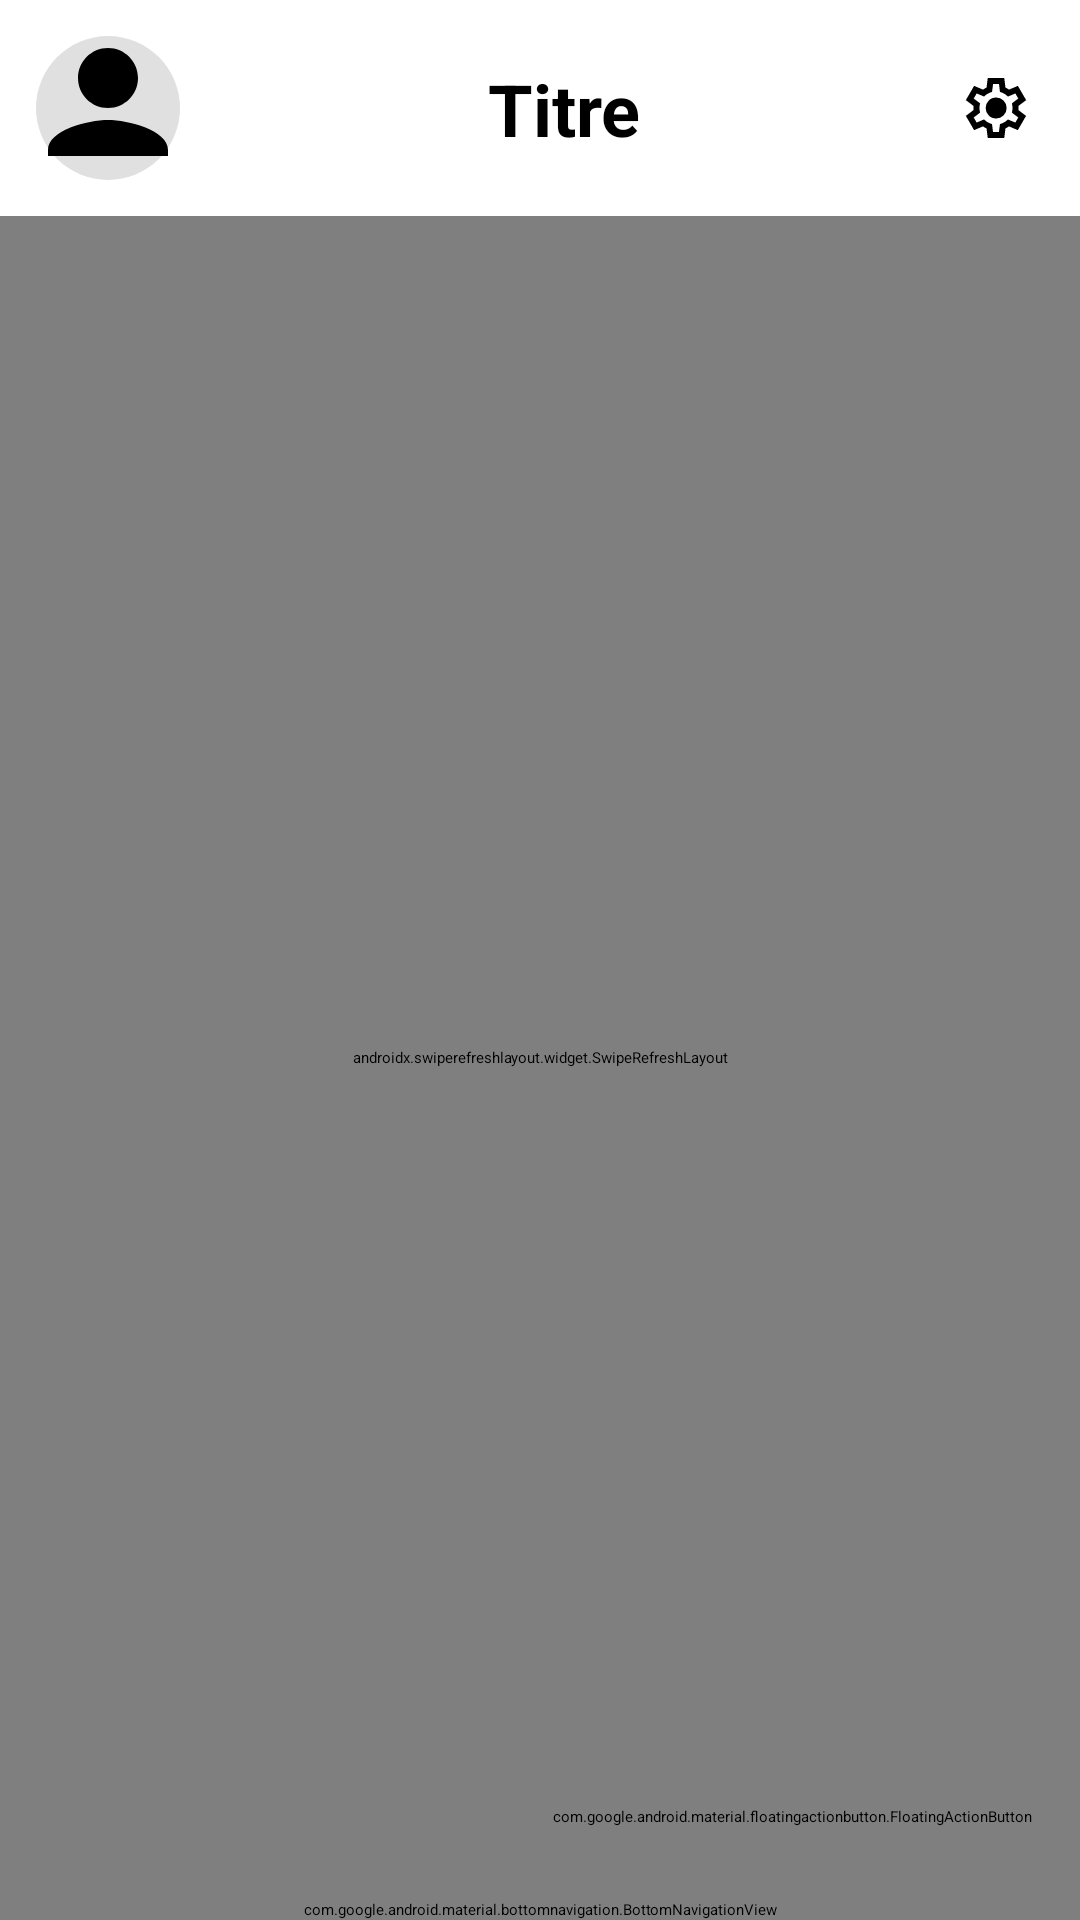

Screen size 1080w x 1920h. Icon name, then its box in pixels as [x1, y1, x2, y2]:
Image de profil: [36, 36, 180, 180]
Paramètres: [966, 78, 1026, 138]
